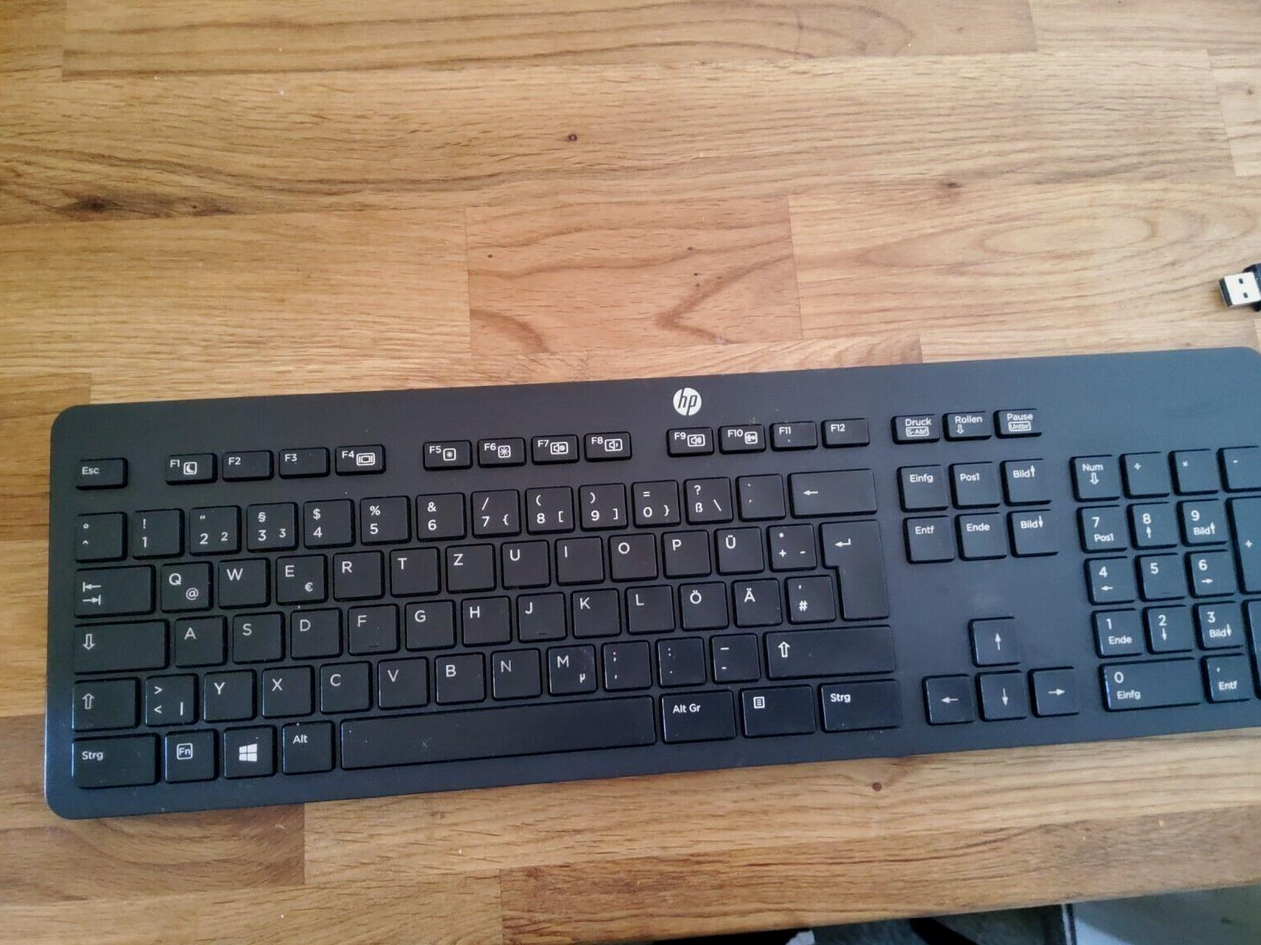0: (628, 475, 677, 524)
1: (128, 505, 180, 555)
2: (185, 502, 238, 552)
3: (242, 498, 295, 549)
4: (299, 495, 351, 545)
5: (355, 492, 408, 541)
6: (412, 489, 464, 537)
7: (469, 485, 519, 534)
8: (522, 481, 572, 532)
9: (575, 478, 625, 528)
a: (171, 612, 223, 665)
accent: (734, 470, 783, 517)
ae: (729, 574, 780, 625)
alt-left: (278, 718, 332, 772)
altgr-right: (656, 686, 734, 740)
b: (431, 649, 483, 701)
c: (316, 658, 369, 711)
caret: (70, 509, 122, 558)
comma: (598, 637, 649, 689)
d: (287, 604, 339, 657)
del: (788, 464, 873, 513)
e: (271, 550, 325, 601)
enter: (817, 515, 885, 616)
f: (345, 600, 397, 652)
g: (401, 597, 453, 648)
h: (458, 592, 509, 643)
hash: (783, 571, 834, 621)
i: (552, 533, 602, 582)
j: (514, 589, 564, 640)
k: (569, 585, 619, 637)
keyboard: (40, 342, 1261, 823)
l: (622, 581, 673, 632)
less: (140, 670, 193, 723)
m: (543, 641, 595, 693)
minus: (706, 629, 757, 680)
n: (487, 646, 539, 697)
o: (605, 529, 655, 578)
oe: (676, 578, 727, 628)
p: (659, 527, 708, 575)
plus: (765, 519, 813, 568)
point: (652, 634, 703, 684)
q: (155, 558, 210, 610)
r: (329, 548, 381, 598)
s: (227, 608, 282, 661)
shift-left: (67, 675, 134, 728)
shift-lock: (69, 617, 164, 670)
shift-right: (762, 621, 893, 675)
space: (335, 695, 652, 766)
ss: (680, 472, 730, 520)
strg-left: (66, 731, 155, 786)
strg-right: (814, 676, 902, 729)
t: (386, 544, 437, 594)
tab: (70, 561, 150, 613)
u: (497, 536, 548, 587)
ue: (711, 523, 762, 572)
v: (374, 654, 426, 706)
w: (214, 554, 267, 606)
x: (258, 663, 311, 715)
y: (199, 666, 253, 719)
z: (443, 540, 494, 591)
